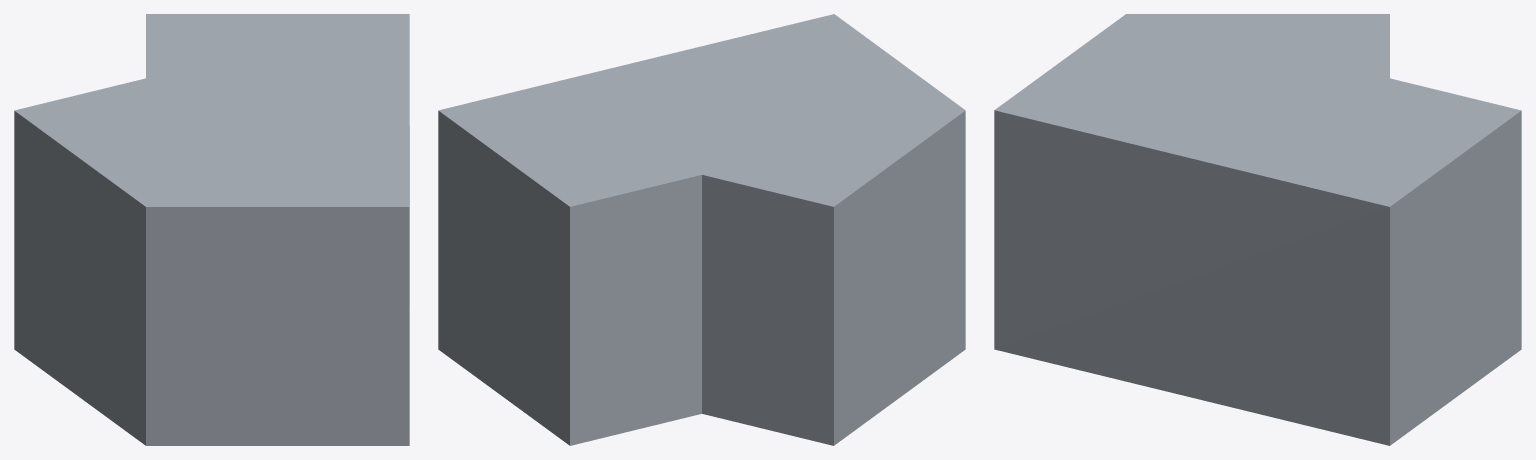
File: wall_cross1.fbx
3 views of the same model, side by side, from view 1: azimuth 30°, elevation 25°; view 2: azimuth 150°, elevation 25°; view 3: azimuth 270°, elevation 25° (orthographic).
Parts seen in each view (by area): view 1: Cylinder; view 2: Cylinder; view 3: Cylinder.
Boxes of the visible parts, x1,y1,x2,y2 form: Cylinder: (14,14,409,445); Cylinder: (438,14,965,445); Cylinder: (994,14,1521,445).
Size of the model in its own units: 1.73 by 1 by 2.
